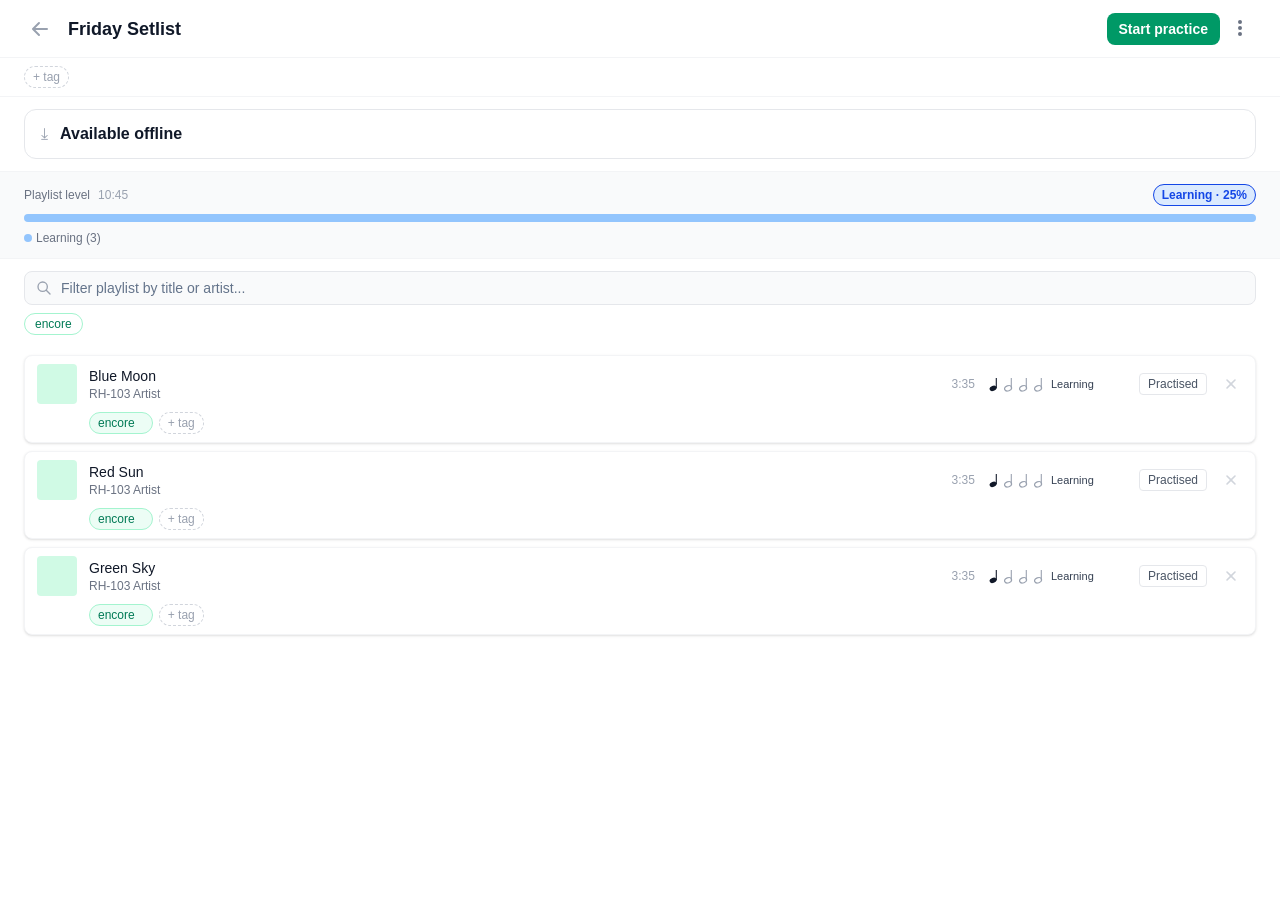
Scenario: the Reorder toggle (RH-103) › is offered when the caller may reorder and no filter is active (ER14)
The width and height of the screenshot is (1280, 900).
Click the button named "More actions" at (1240, 28), box top-left (1224, 12), bottom-right (1256, 44)
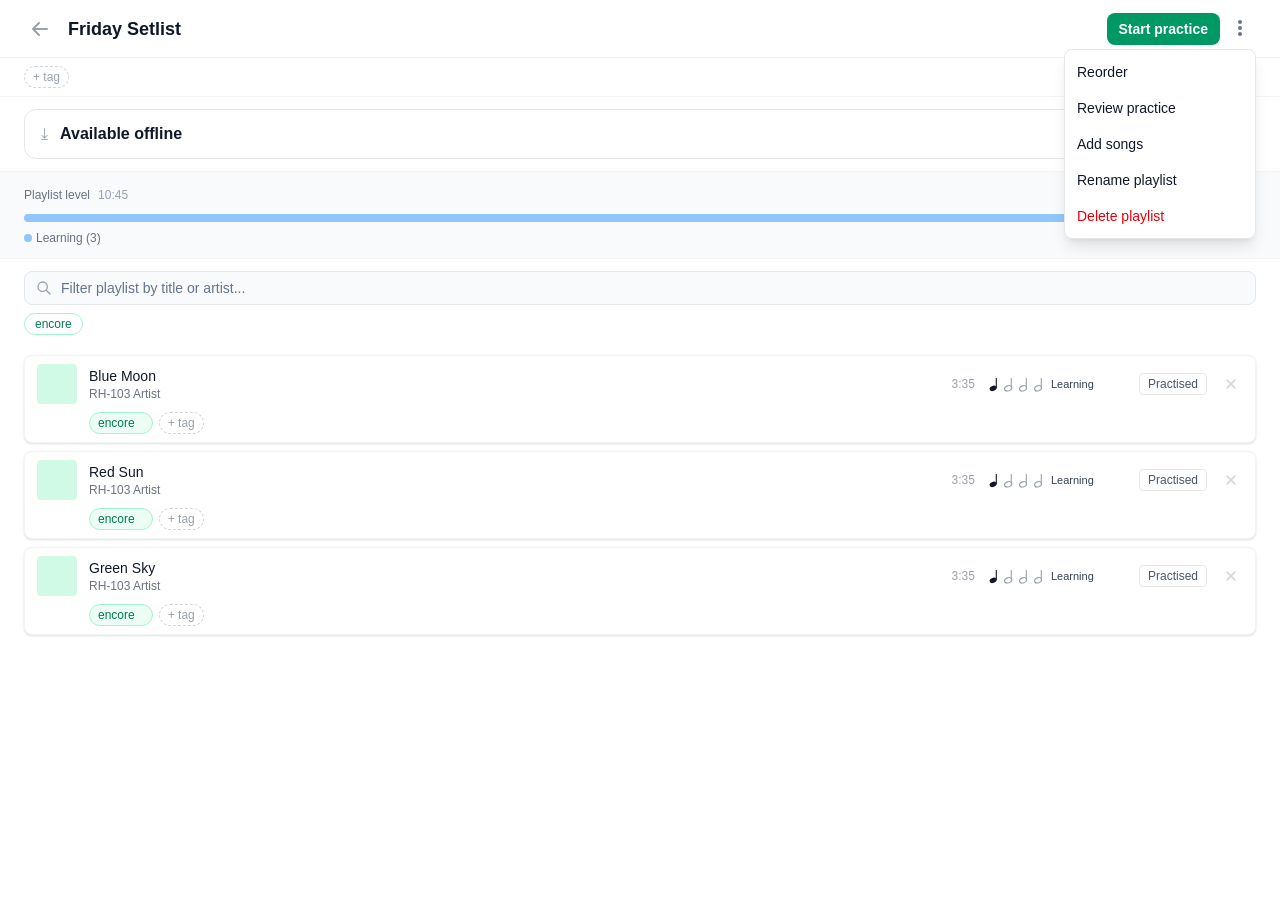
Now the menu item "Reorder" is shown, box top-left (1065, 54), bottom-right (1255, 90)
